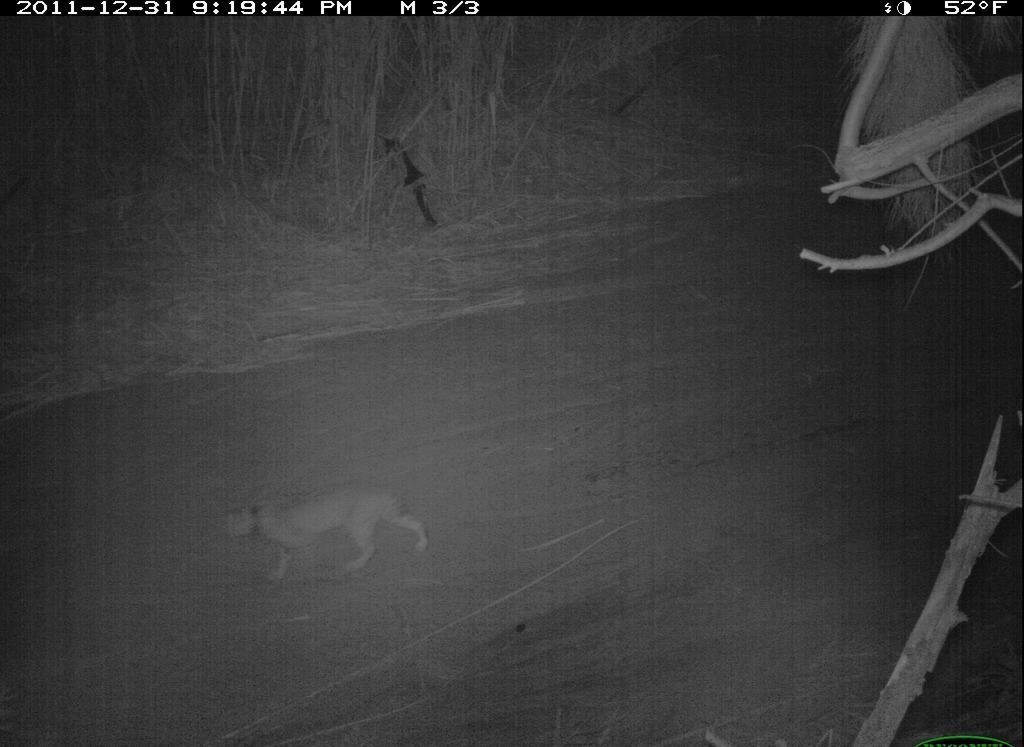bobcat: (217, 487, 437, 587)
